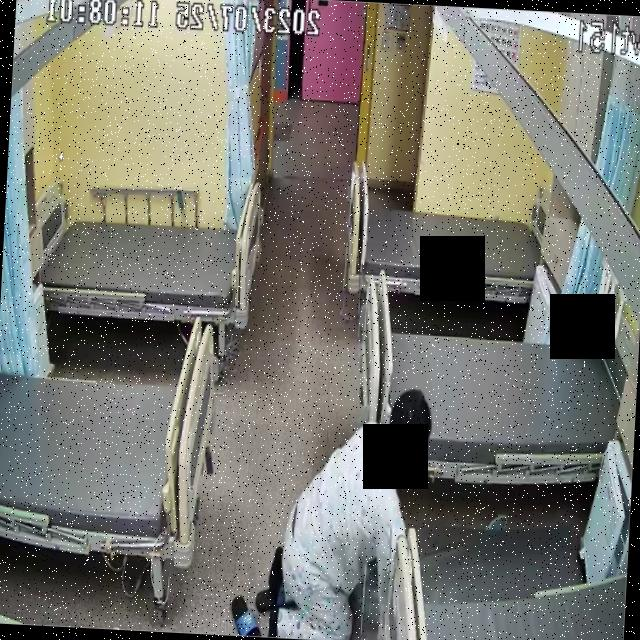bed: (0, 307, 220, 563), (354, 320, 626, 486), (23, 198, 264, 328), (348, 194, 542, 302)
fall: (255, 379, 433, 640)
patient: (256, 373, 436, 640)
